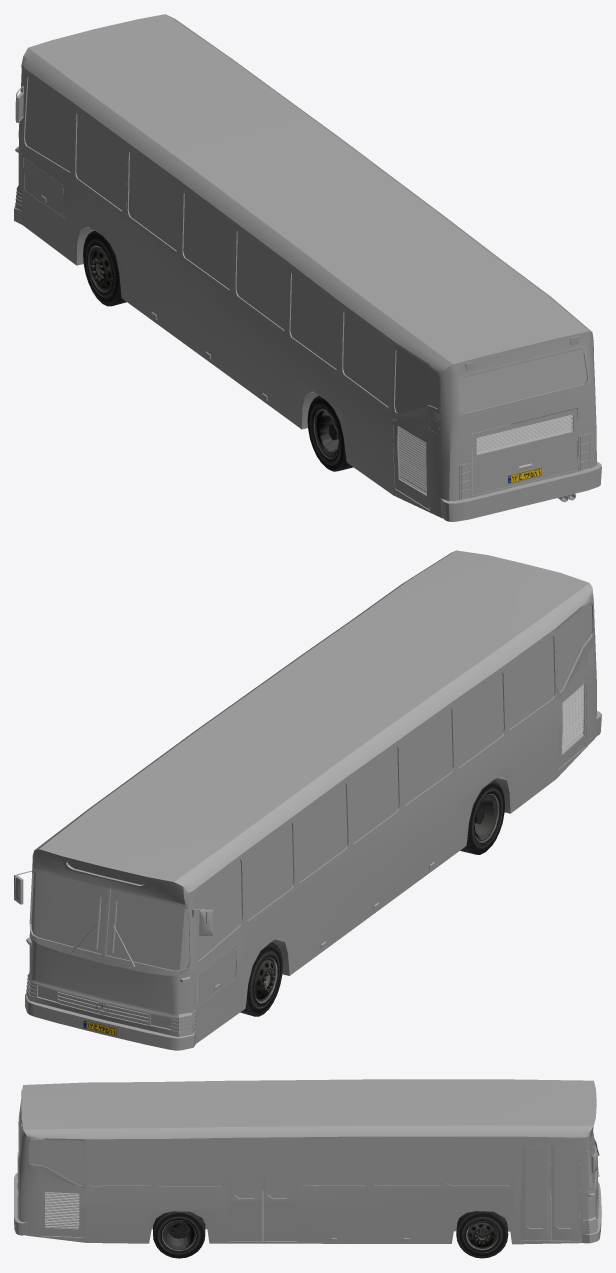
File: Mercedes Benz O457.fbx
3 views of the same model, one above another, from view 1: azimuth 30°, elevation 25°; view 2: azimuth 150°, elevation 25°; view 3: azimuth 270°, elevation 25° (orthographic). The views are drawn at different scales.
Visible parts, largest first — view 1: Main_Body_low, Glass, Other_Body, FL, FB, Lights; view 2: Main_Body_low, Glass, Other_Body, FB, FL; view 3: Main_Body_low, Glass, Other_Body, FB, FR.
Boxes of the visible parts, x1,y1,x2,y2 form: Main_Body_low: [17, 14, 596, 518]; Glass: [19, 75, 587, 413]; Other_Body: [14, 65, 601, 521]; FL: [83, 231, 126, 306]; FB: [307, 395, 353, 471]; Lights: [15, 146, 589, 499]; Main_Body_low: [27, 550, 596, 1043]; Glass: [31, 603, 592, 970]; Other_Body: [14, 601, 601, 1050]; FB: [460, 780, 504, 854]; FL: [240, 942, 282, 1016]; Main_Body_low: [18, 1079, 598, 1244]; Glass: [19, 1109, 595, 1228]; Other_Body: [14, 1098, 601, 1244]; FB: [153, 1211, 205, 1258]; FR: [456, 1211, 508, 1258].
Bounding box in the file's own units: 8.48 × 8.31 × 33.92.
